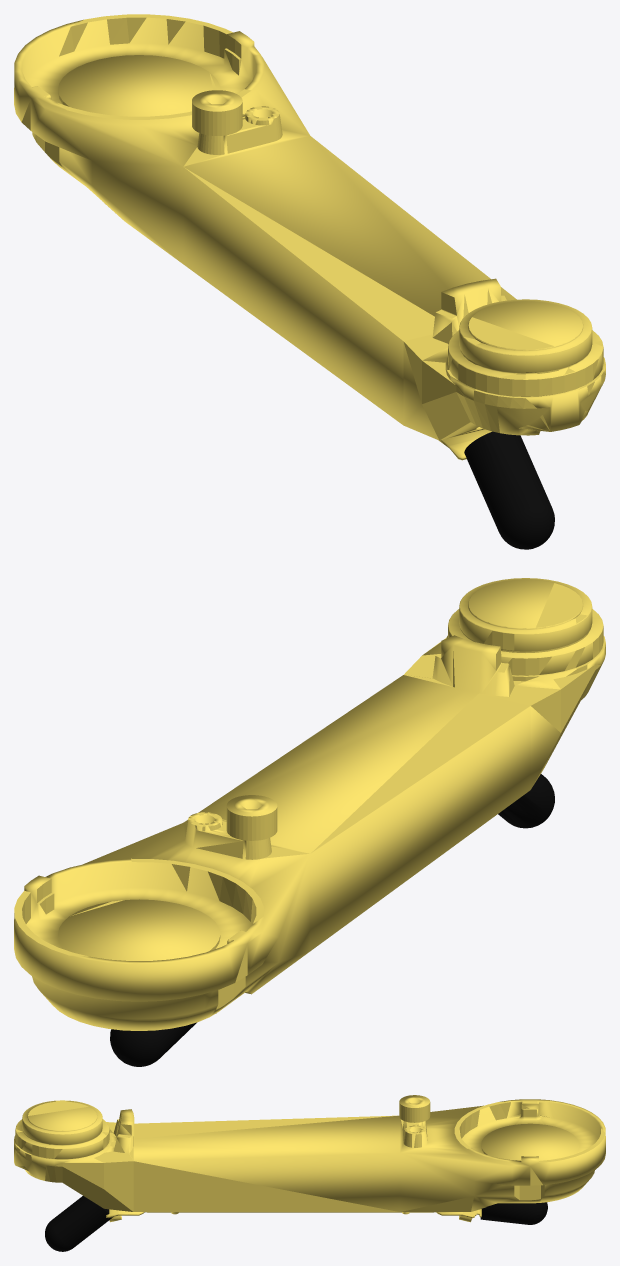
The picture shows the model from 3 angles, top to bottom: view 1: azimuth 30°, elevation 25°; view 2: azimuth 150°, elevation 25°; view 3: azimuth 270°, elevation 25°; orthographic projection. The views are drawn at different scales.
Parts seen in each view (by area): view 1: /Node_0x7fd4b53134a0/meshId0_name_003-mesh/0, /Node_0x7fd4b53134a0_001/meshId1_name_002-mesh/0; view 2: /Node_0x7fd4b53134a0/meshId0_name_003-mesh/0, /Node_0x7fd4b53134a0_001/meshId1_name_002-mesh/0; view 3: /Node_0x7fd4b53134a0/meshId0_name_003-mesh/0, /Node_0x7fd4b53134a0_001/meshId1_name_002-mesh/0.
Boxes of the visible parts, left/top/right/bottom form: /Node_0x7fd4b53134a0/meshId0_name_003-mesh/0: left=14, top=14, right=605, bottom=460; /Node_0x7fd4b53134a0_001/meshId1_name_002-mesh/0: left=464, top=431, right=554, bottom=549; /Node_0x7fd4b53134a0/meshId0_name_003-mesh/0: left=14, top=578, right=605, bottom=1030; /Node_0x7fd4b53134a0_001/meshId1_name_002-mesh/0: left=110, top=774, right=554, bottom=1066; /Node_0x7fd4b53134a0/meshId0_name_003-mesh/0: left=14, top=1095, right=605, bottom=1222; /Node_0x7fd4b53134a0_001/meshId1_name_002-mesh/0: left=45, top=1196, right=547, bottom=1251.
Bounding box in the file's own units: 0.256 × 0.2679 × 1.
